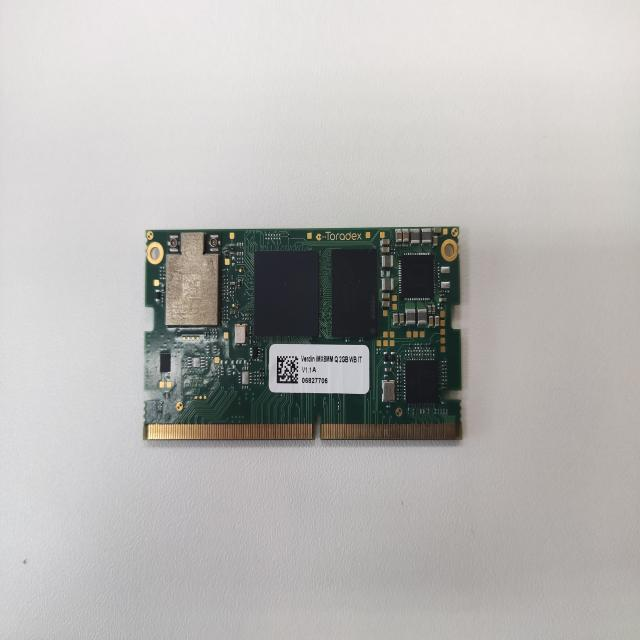som: (136, 222, 476, 450)
